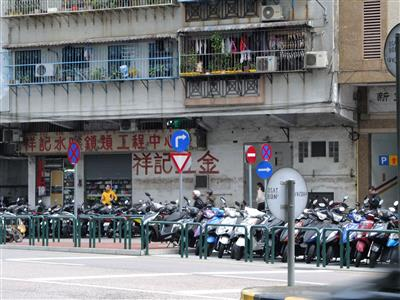noStopping: (65, 140, 81, 165), (260, 142, 272, 161)
rightOnly: (255, 160, 273, 179)
rightTurnOnly: (169, 128, 189, 152)
stop: (244, 144, 256, 164)
yield: (168, 151, 191, 173)
